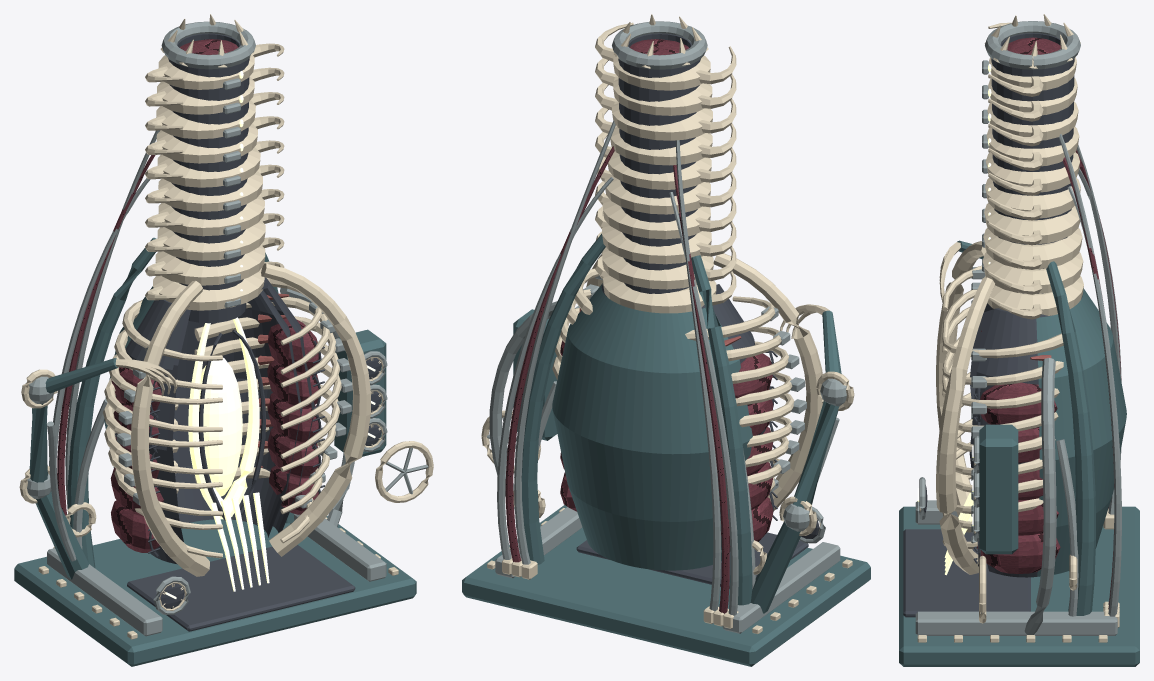
Rendered from vertebral_furnace.glb.
3 views of the same model, side by side, from view 1: azimuth 30°, elevation 25°; view 2: azimuth 150°, elevation 25°; view 3: azimuth 270°, elevation 25° (orthographic). The views are drawn at different scales.
Visible parts, largest first — view 1: vertebral_furnace_warm, vertebral_furnace_deep, vertebral_furnace_petrol, vertebral_furnace_worn, vertebral_furnace_bruised, vertebral_furnace_sick, vertebral_furnace_suture; view 2: vertebral_furnace_petrol, vertebral_furnace_warm, vertebral_furnace_worn, vertebral_furnace_bruised, vertebral_furnace_deep; view 3: vertebral_furnace_warm, vertebral_furnace_petrol, vertebral_furnace_worn, vertebral_furnace_deep, vertebral_furnace_bruised, vertebral_furnace_sick.
Part boxes in pixels (bbox=[...]): vertebral_furnace_warm: bbox=[19, 14, 433, 639]; vertebral_furnace_deep: bbox=[115, 33, 381, 631]; vertebral_furnace_petrol: bbox=[14, 237, 416, 666]; vertebral_furnace_worn: bbox=[27, 21, 428, 636]; vertebral_furnace_bruised: bbox=[57, 39, 318, 552]; vertebral_furnace_sick: bbox=[165, 71, 375, 598]; vertebral_furnace_suture: bbox=[258, 293, 289, 467]; vertebral_furnace_petrol: bbox=[462, 233, 870, 666]; vertebral_furnace_warm: bbox=[481, 14, 854, 633]; vertebral_furnace_worn: bbox=[487, 21, 846, 633]; vertebral_furnace_bruised: bbox=[505, 39, 773, 613]; vertebral_furnace_deep: bbox=[576, 33, 819, 588]; vertebral_furnace_warm: bbox=[917, 14, 1119, 642]; vertebral_furnace_petrol: bbox=[899, 240, 1139, 666]; vertebral_furnace_worn: bbox=[915, 21, 1121, 635]; vertebral_furnace_deep: bbox=[903, 33, 1081, 617]; vertebral_furnace_bruised: bbox=[977, 37, 1121, 609]; vertebral_furnace_sick: bbox=[917, 64, 991, 575].
Bounding box in the file's own units: 6.47 × 8.87 × 3.4.
7 materials, 2 textured.
